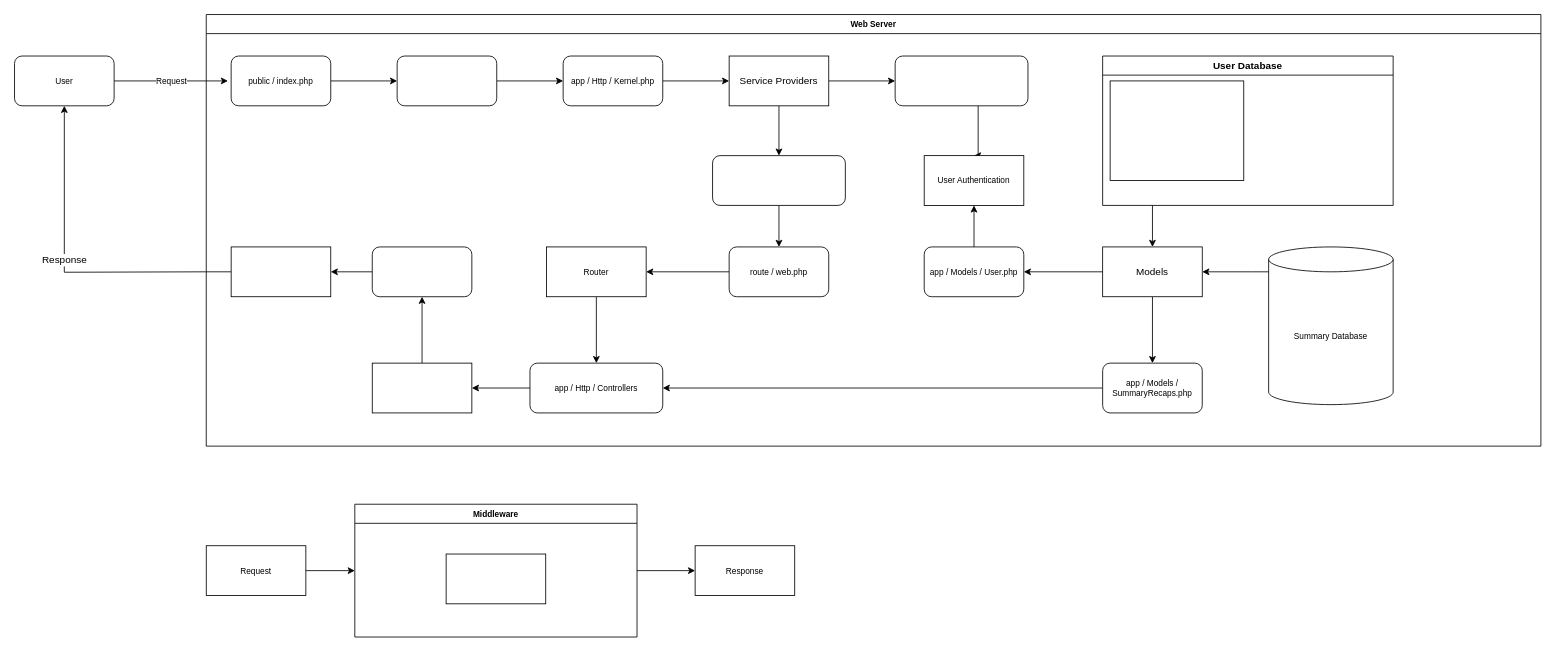
Image size: 1555x652. Some labels were removed from this diagram. Here are the shapes that lost their labels. From the top down, the centre of each, then its label:
At point 446,80: "bootstrap / app.php".
At point 961,80: "app / Providers / AuthServiceProvider.php".
At point 1176,130: "Users id name username email password".
At point 778,180: "app / Providers / RouteServiceProvider.php".
At point 280,271: "View".
At point 421,271: "resources / views".
At point 421,387: "Controllers".
At point 495,578: "Controller".
